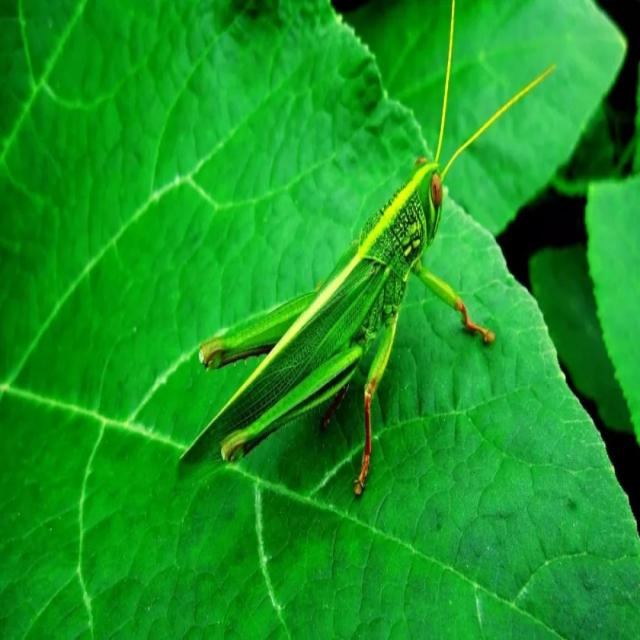ZhaMeng: (164, 98, 517, 496)
